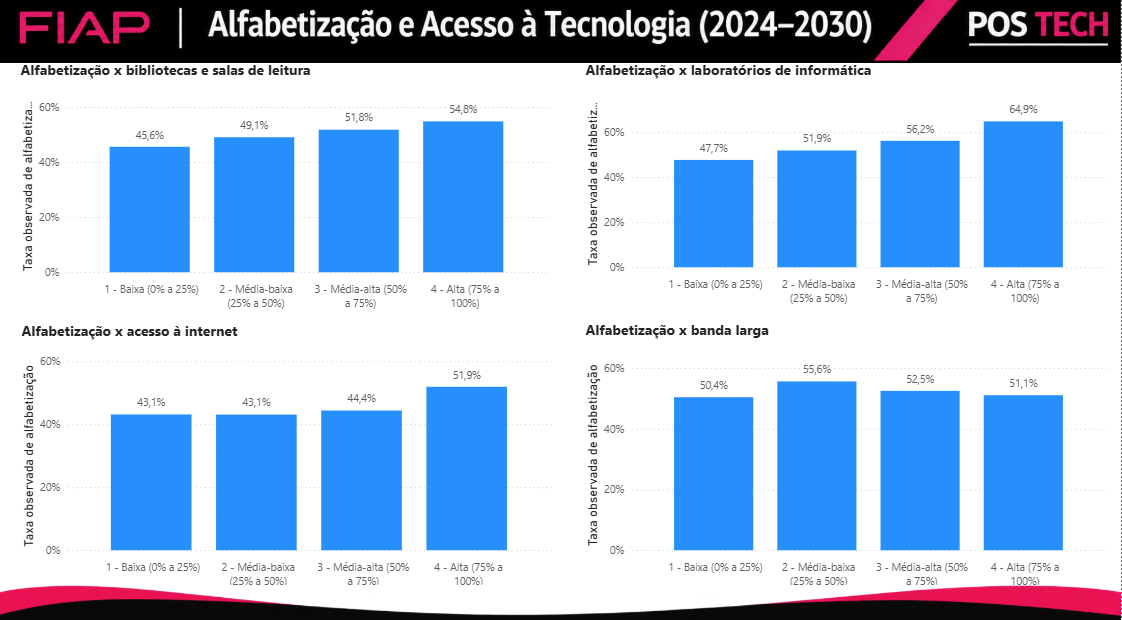

This screenshot's page, from the dashboard's own definition file:
{"tool":"powerbi","page":{"name":"Infraestrutura escolar","canvas":[1280,720],"ordinal":2},"visuals":[{"type":"clusteredColumnChart","title":"Alfabetização x bibliotecas e salas de leitura","fields":{"Category":["Panorama_Municipal.Faixa_Biblioteca_Grupo"],"Y":["Panorama_Municipal.Taxa observada de alfabetização"]},"box":[21.6,78.7,611.8,292.8],"z":0},{"type":"clusteredColumnChart","title":"\tAlfabetização x laboratórios de informática","fields":{"Category":["Panorama_Municipal.Faixa_Laboratorio_Grupo"],"Y":["Panorama_Municipal.Taxa observada de alfabetização"]},"box":[665.3,78.7,604.9,287.1],"z":1000},{"type":"clusteredColumnChart","title":"\tAlfabetização x acesso à internet","fields":{"Category":["Panorama_Municipal.Faixa_Internet_Grupo"],"Y":["Panorama_Municipal.Taxa observada de alfabetização"]},"box":[22.8,375.9,615.2,312.2],"z":2000},{"type":"clusteredColumnChart","title":"\tAlfabetização x banda larga","fields":{"Category":["Panorama_Municipal.Faixa_Banda_Larga_Grupo"],"Y":["Panorama_Municipal.Taxa observada de alfabetização"]},"box":[665.3,374.8,604.9,313.3],"z":3000},{"type":"image","box":[0,676.7,1280.5,43.3],"z":4000},{"type":"image","box":[0,0,1280.5,86.6],"z":5000}]}

Visuals, with their boxes in screenshot pixels (x1, y1, x2, y2), scaled from the page's 1280x720 canvas onto the 1122x620 screenshot:
"Alfabetização x bibliotecas e salas de leitura" clusteredColumnChart: box=[19, 68, 555, 320]
"	Alfabetização x laboratórios de informática" clusteredColumnChart: box=[583, 68, 1113, 315]
"	Alfabetização x acesso à internet" clusteredColumnChart: box=[20, 324, 559, 593]
"	Alfabetização x banda larga" clusteredColumnChart: box=[583, 323, 1113, 593]
image: box=[0, 583, 1121, 619]
image: box=[0, 0, 1121, 75]
